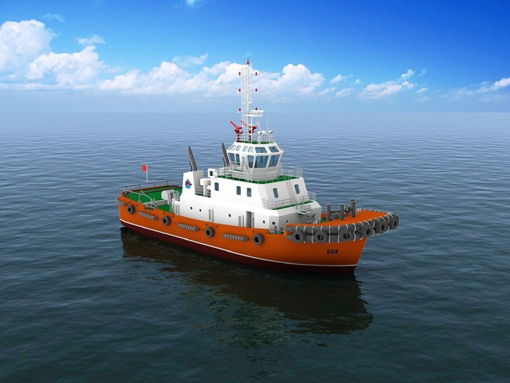otherboat: (105, 51, 402, 274)
